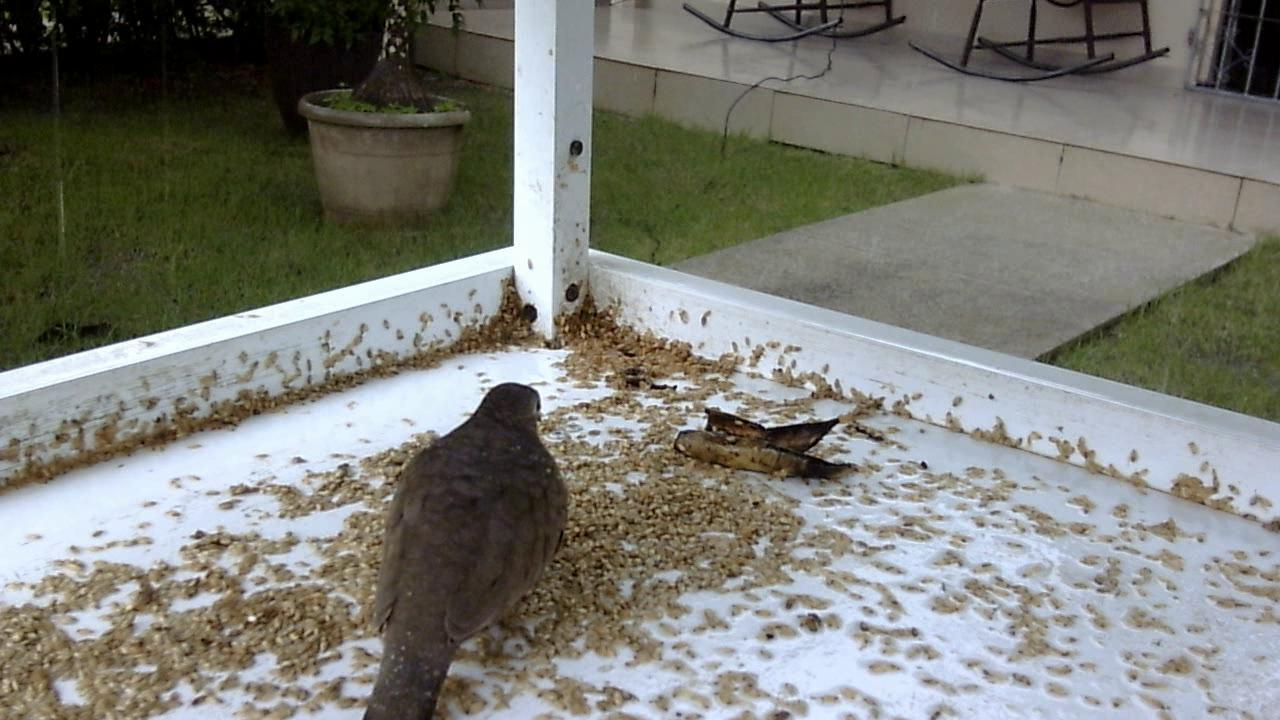rolinha: (348, 370, 576, 713)
